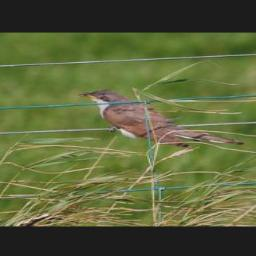Cuckoo: (76, 86, 247, 154)
